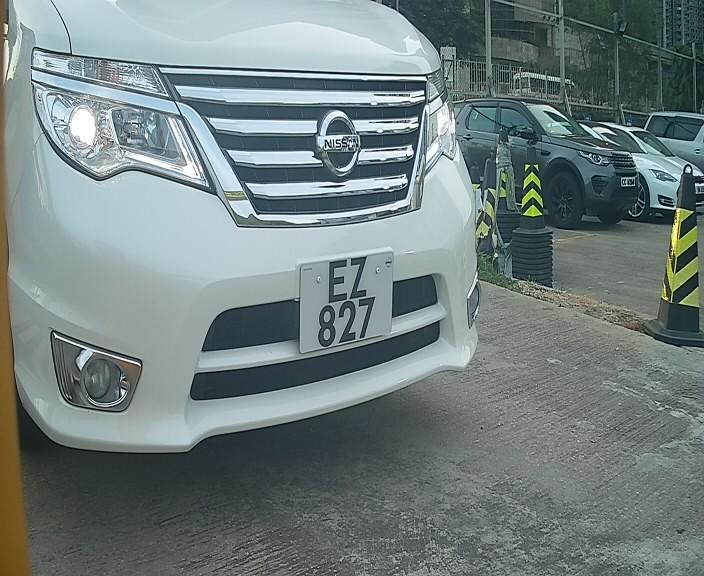License Plate: (293, 240, 403, 363)
